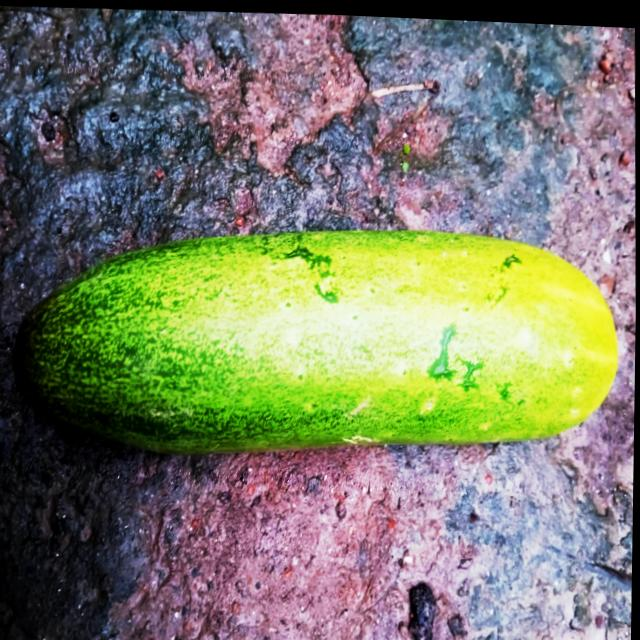Fresh-Cucumber: (7, 205, 624, 476)
